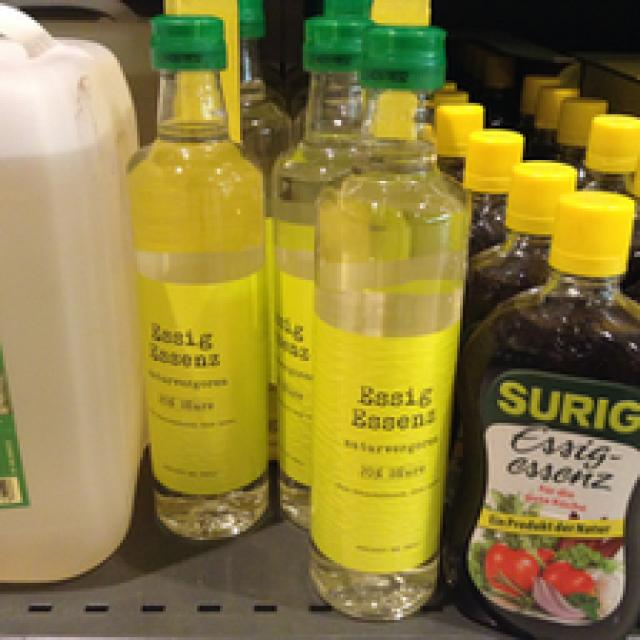groceries: (303, 26, 443, 620), (120, 11, 271, 543), (466, 189, 631, 637)
